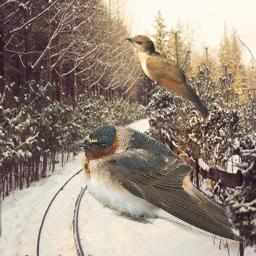Cuckoo: (125, 35, 208, 116)
Swallow: (75, 125, 247, 243)
